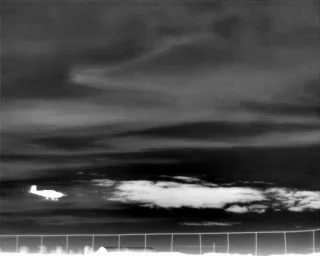AIRPLANE: (26, 182, 69, 205)
